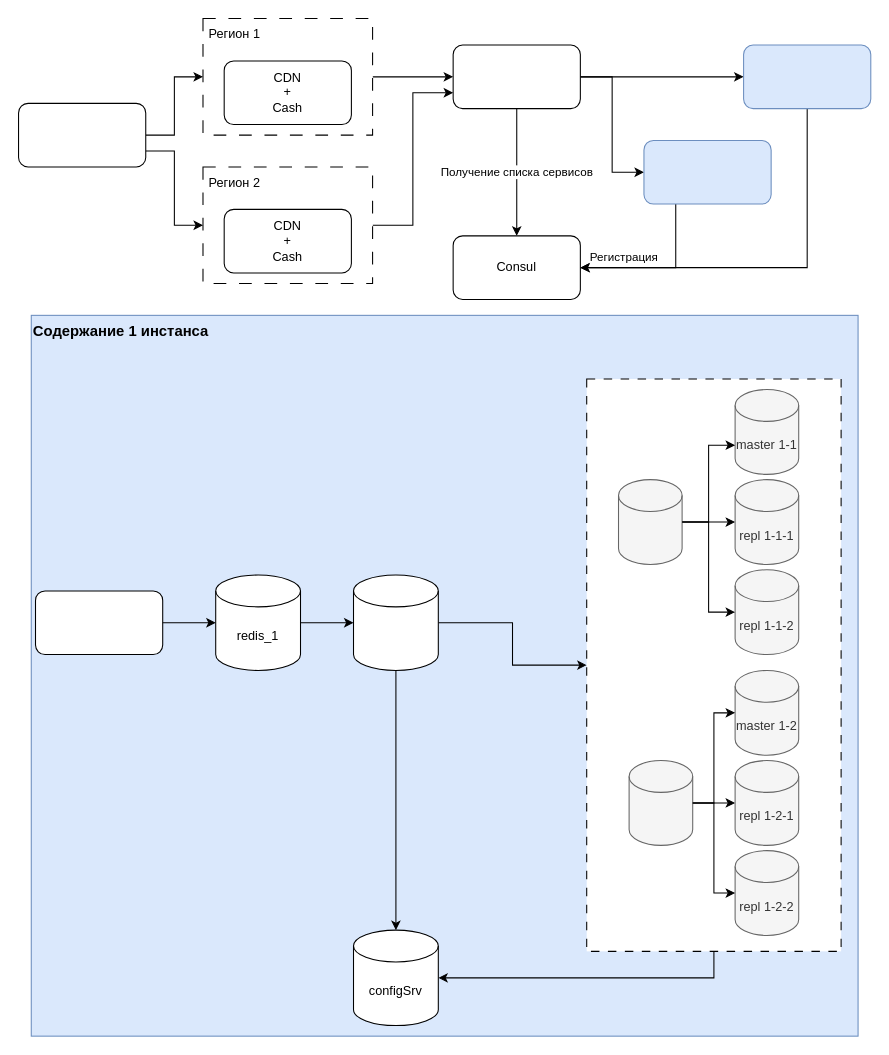
This 889x1055 diagram has some shape labels left out. Each missing label, with the box of its shape:
API Gateway: (452, 44, 580, 109)
pymongo-api: (34, 590, 163, 655)
router: (352, 574, 438, 670)
shard1-1: (617, 479, 682, 564)
shard1-2: (628, 759, 693, 845)
users: (17, 102, 146, 167)
